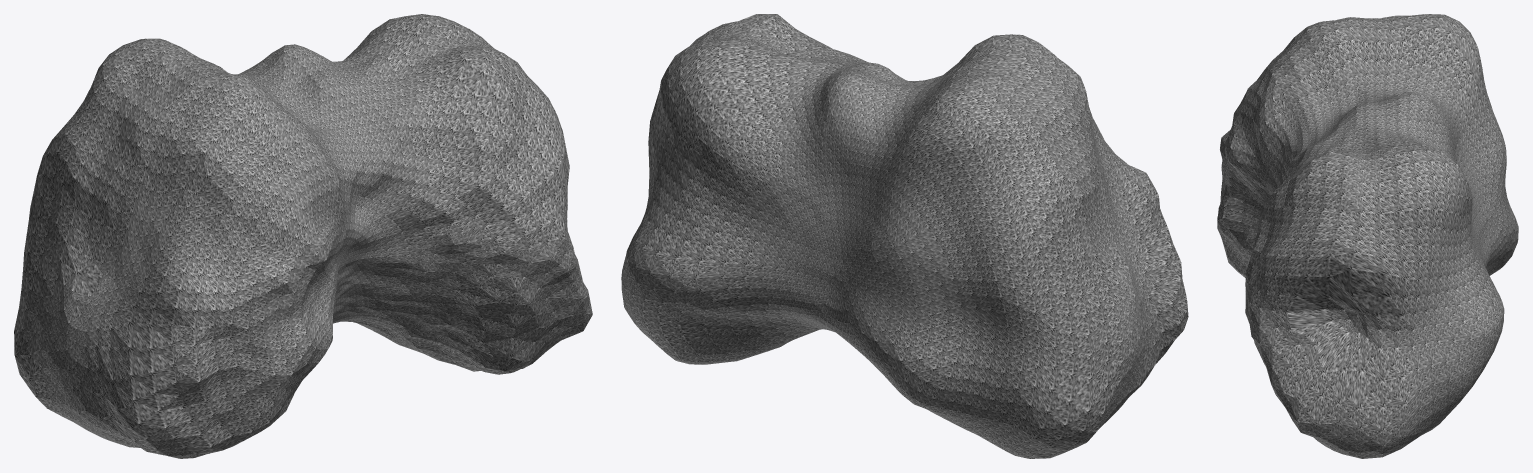
The model's file is mithraWithColor.gltf.
3 views of the same model, side by side, from view 1: azimuth 30°, elevation 25°; view 2: azimuth 150°, elevation 25°; view 3: azimuth 270°, elevation 25° (orthographic). The views are drawn at different scales.
Parts seen in each view (by area): view 1: mithra; view 2: mithra; view 3: mithra.
Part boxes in pixels (x1=…): mithra: x1=14, y1=14, x2=592, y2=458; mithra: x1=621, y1=14, x2=1188, y2=458; mithra: x1=1217, y1=14, x2=1518, y2=458.
Bounding box in the file's own units: 14.51 × 10.18 × 8.86.
1 material, 1 textured.
